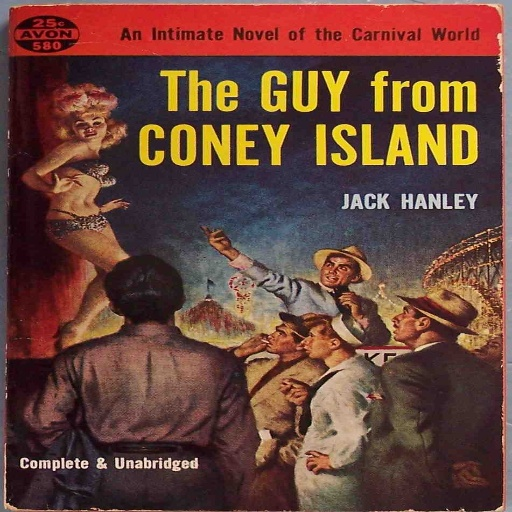hand: (200, 228, 263, 276), (446, 459, 491, 490), (278, 380, 311, 408), (301, 449, 334, 475), (48, 170, 83, 193), (237, 332, 269, 356), (338, 289, 361, 316), (99, 197, 131, 213)
